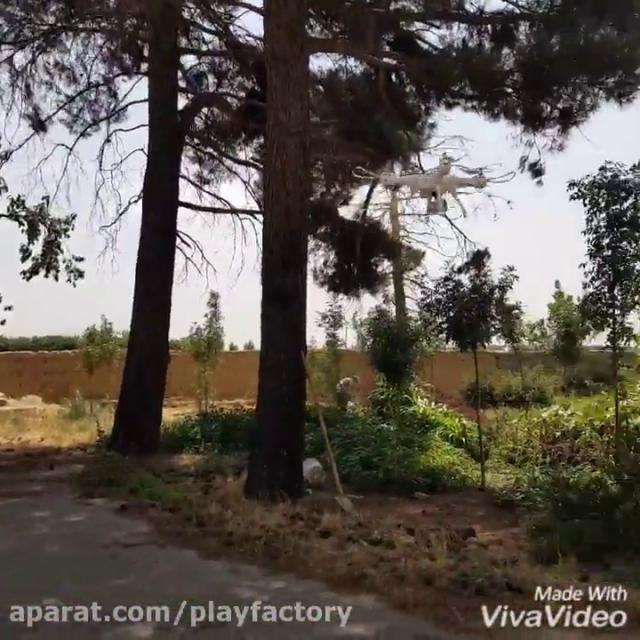drone: (351, 152, 517, 216)
